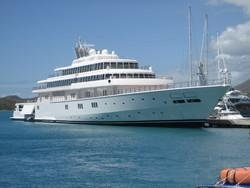yacht: (10, 33, 231, 126)
